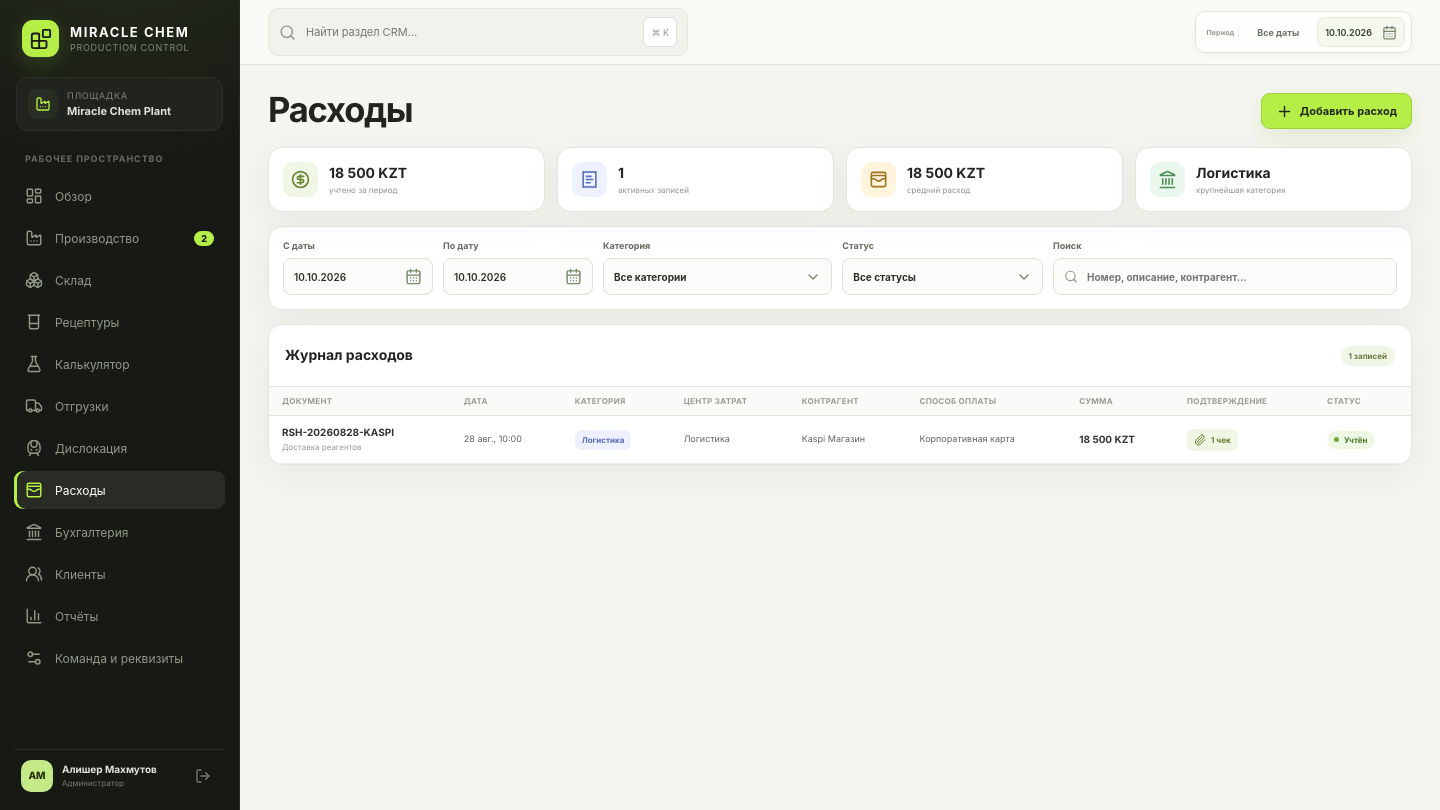
Test: Miracle Chem app shell › shows Kaspi receipts as expense confirmations and opens them from the expense card
expect the heading "Расходы" is shown: met, box [268,93,412,129]
expect the text "1 чек" is shown: met, box [1187,429,1238,451]
Click the text "RSH-20260828-KASPI".
click(338, 433)  # box [282,427,394,439]
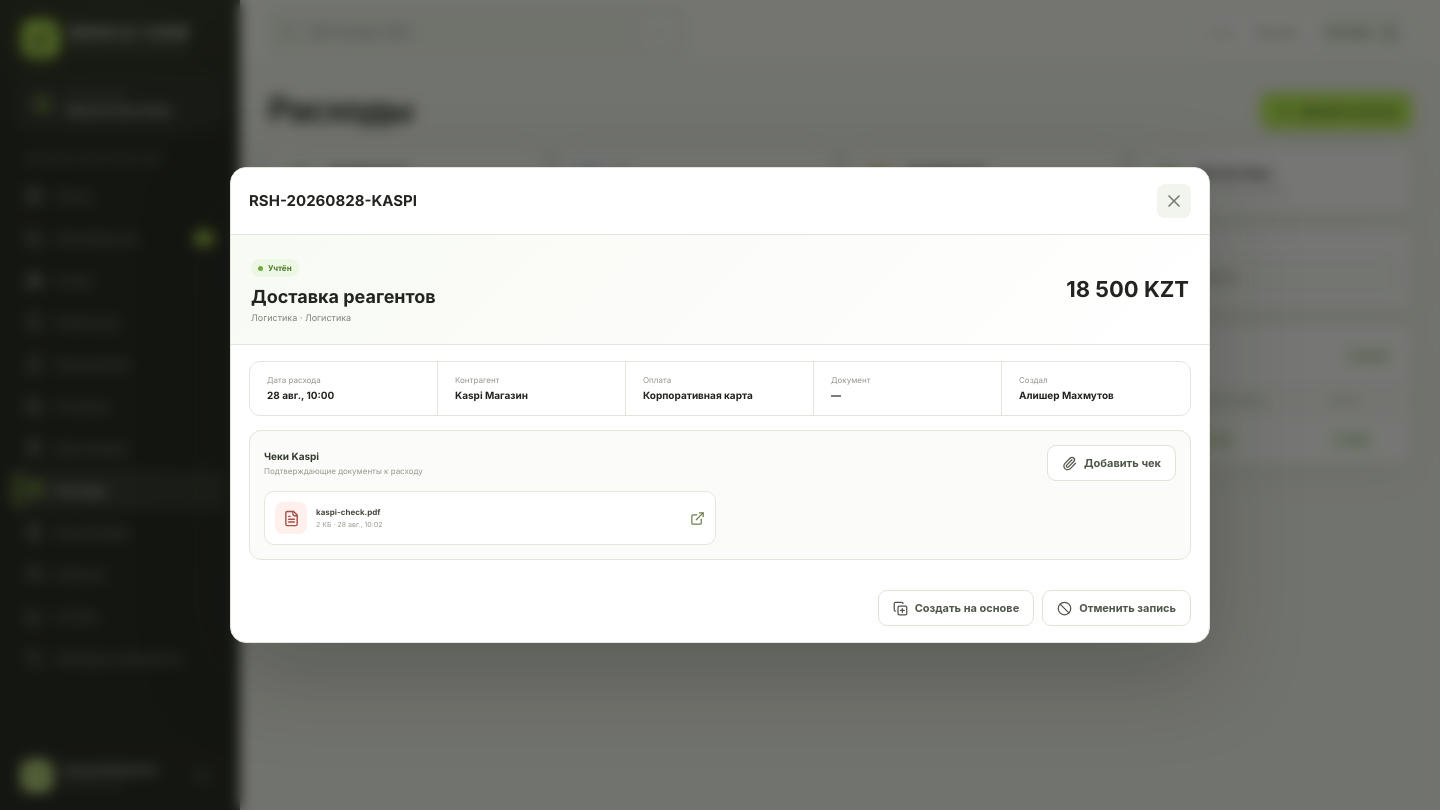
expect the text "Чеки Kaspi" is shown: met, box [264,451,319,463]
expect the file field "Добавить чек" is shown: met, box [1047,445,1176,481]
